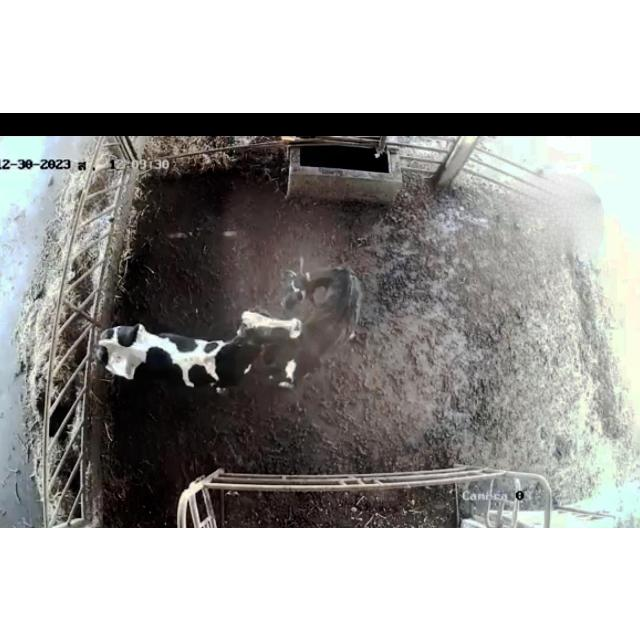propping: (218, 298, 330, 367)
